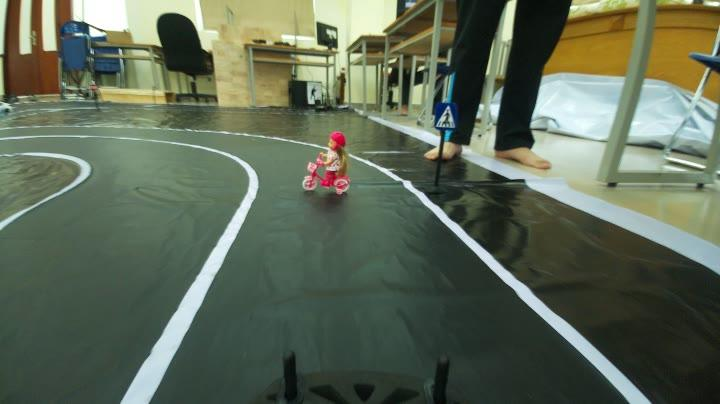crosswalk: (430, 98, 459, 140)
pedestrian: (293, 130, 358, 197)
